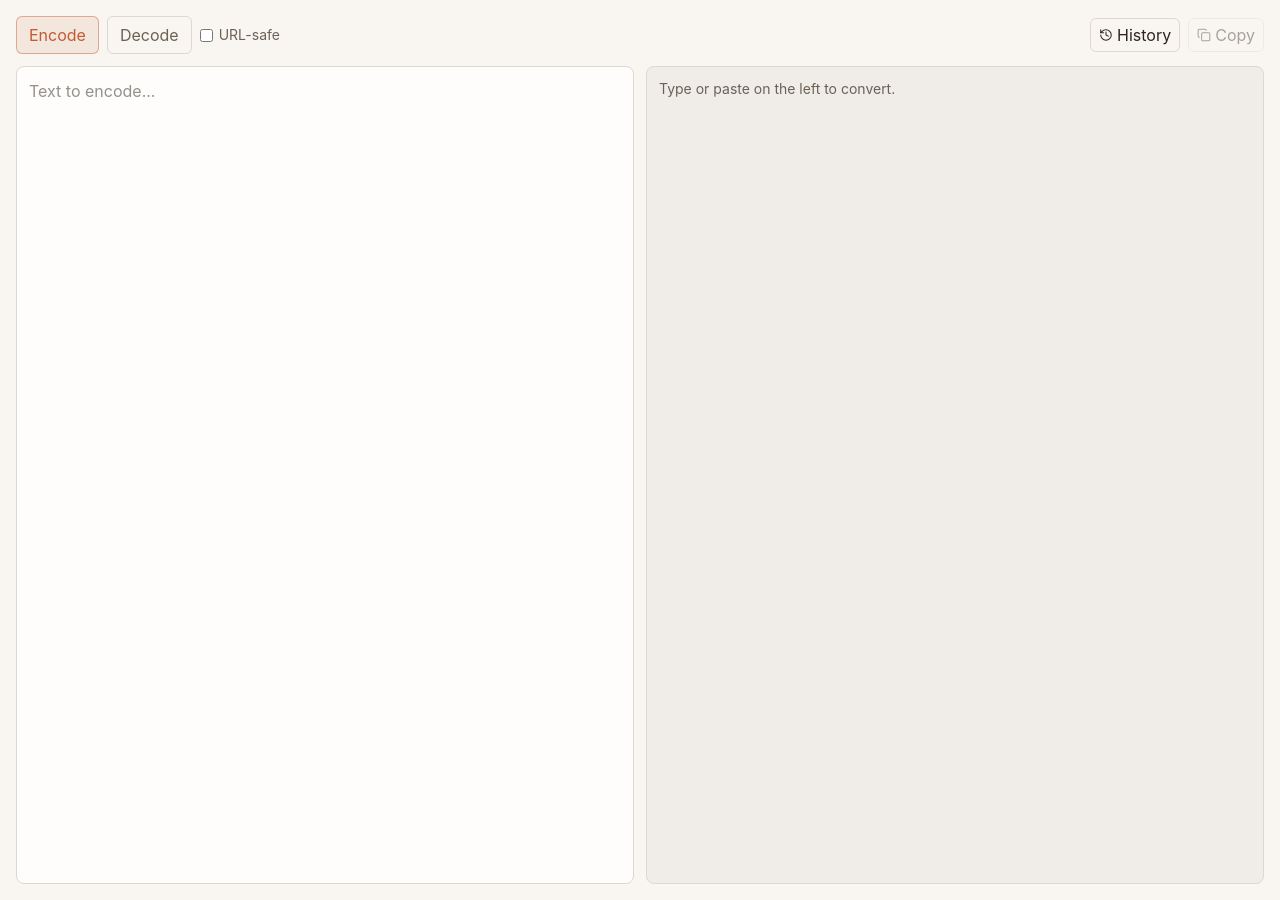
Scenario: Base64Tool › encodes input live
Type "hi" into the text box named "Base64 input" at (325, 475), box [16, 66, 634, 884]
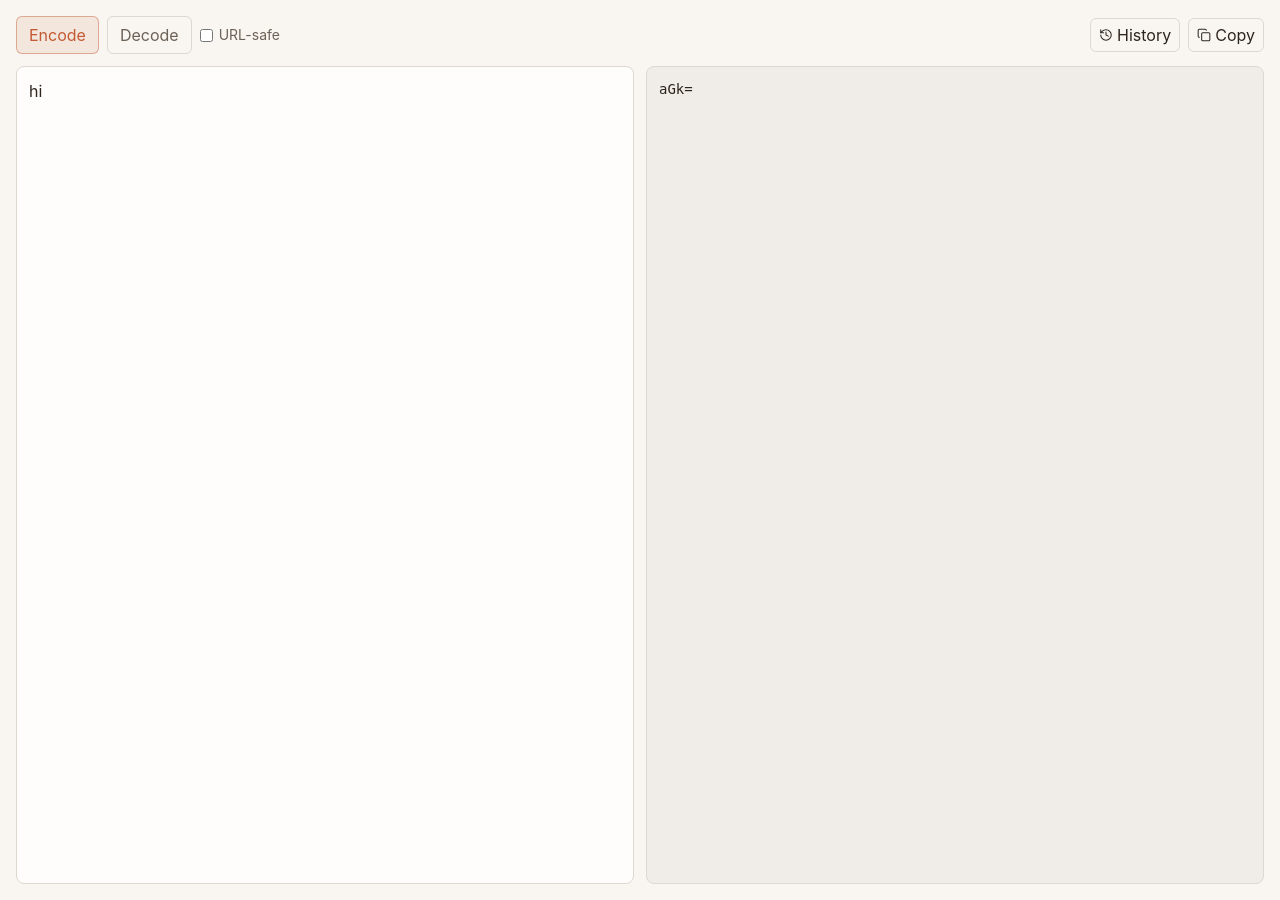
Expected: the text named "Output" reads "aGk=", [659, 81, 693, 97]
